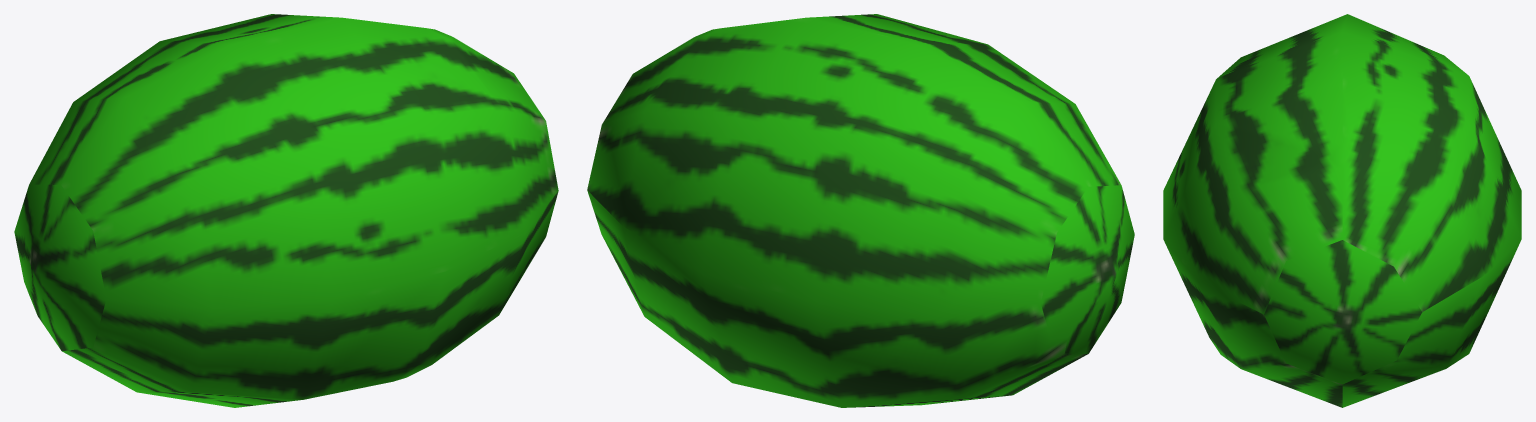
File: watermelon_big.fbx
The picture shows the model from 3 angles, left to right: view 1: azimuth 30°, elevation 25°; view 2: azimuth 150°, elevation 25°; view 3: azimuth 270°, elevation 25°; orthographic projection. The views are drawn at different scales.
Parts seen in each view (by area): view 1: watermelon_big; view 2: watermelon_big; view 3: watermelon_big.
Boxes of the visible parts, <box> form: watermelon_big: <box>14,14,558,407</box>; watermelon_big: <box>587,14,1134,407</box>; watermelon_big: <box>1163,14,1521,407</box>.
Size of the model in its own units: 2.76 by 1.95 by 1.92.
